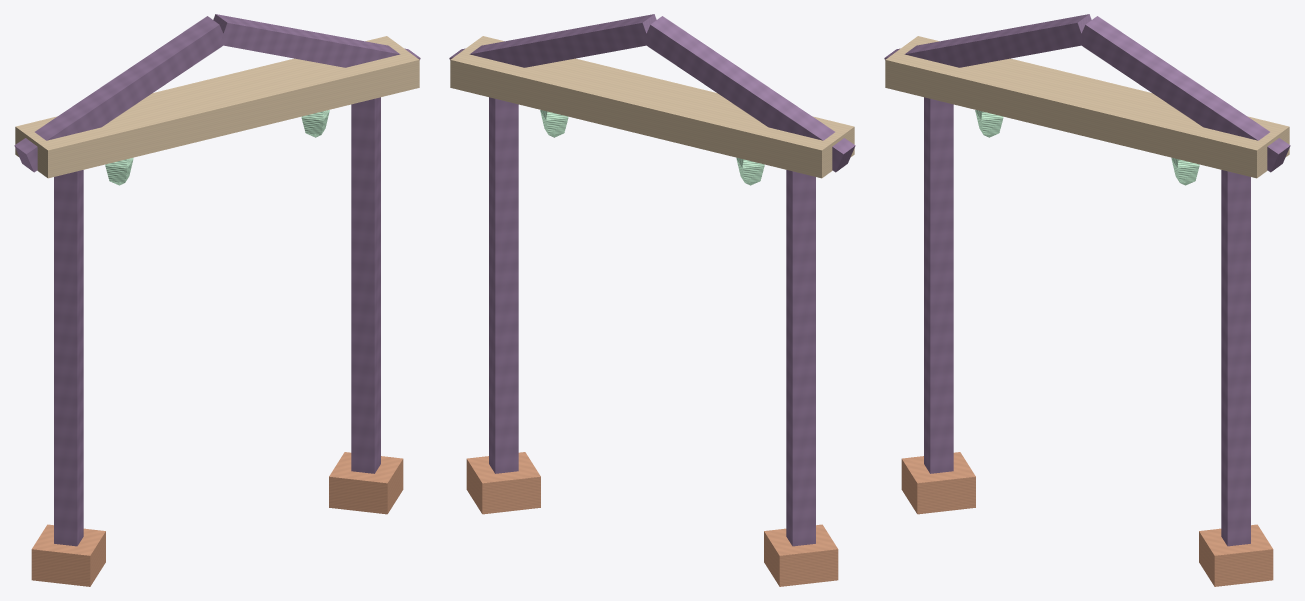
Rendered from atlas100-s081-a09.glb.
3 views of the same model, side by side, from view 1: azimuth 30°, elevation 25°; view 2: azimuth 150°, elevation 25°; view 3: azimuth 330°, elevation 25° (orthographic).
Parts seen in each view (by area): view 1: atlas100-s081-a09:part-004, atlas100-s081-a09:part-002, atlas100-s081-a09:part-000, atlas100-s081-a09:part-005, atlas100-s081-a09:part-006, atlas100-s081-a09:part-003, atlas100-s081-a09:part-001, atlas100-s081-a09:part-007, atlas100-s081-a09:part-008; view 2: atlas100-s081-a09:part-004, atlas100-s081-a09:part-002, atlas100-s081-a09:part-000, atlas100-s081-a09:part-005, atlas100-s081-a09:part-006, atlas100-s081-a09:part-003, atlas100-s081-a09:part-001, atlas100-s081-a09:part-007, atlas100-s081-a09:part-008; view 3: atlas100-s081-a09:part-004, atlas100-s081-a09:part-000, atlas100-s081-a09:part-002, atlas100-s081-a09:part-006, atlas100-s081-a09:part-005, atlas100-s081-a09:part-001, atlas100-s081-a09:part-003, atlas100-s081-a09:part-008, atlas100-s081-a09:part-007.
Boxes of the visible parts, bbox=[...] form: atlas100-s081-a09:part-004: bbox=[15, 36, 419, 178]; atlas100-s081-a09:part-002: bbox=[351, 97, 380, 473]; atlas100-s081-a09:part-000: bbox=[54, 170, 83, 546]; atlas100-s081-a09:part-005: bbox=[14, 16, 226, 172]; atlas100-s081-a09:part-006: bbox=[213, 14, 420, 67]; atlas100-s081-a09:part-003: bbox=[329, 452, 403, 514]; atlas100-s081-a09:part-001: bbox=[31, 524, 105, 586]; atlas100-s081-a09:part-007: bbox=[105, 158, 133, 185]; atlas100-s081-a09:part-008: bbox=[301, 110, 329, 137]; atlas100-s081-a09:part-004: bbox=[450, 36, 854, 178]; atlas100-s081-a09:part-002: bbox=[489, 97, 518, 473]; atlas100-s081-a09:part-000: bbox=[786, 170, 815, 546]; atlas100-s081-a09:part-005: bbox=[643, 16, 855, 172]; atlas100-s081-a09:part-006: bbox=[449, 14, 656, 67]; atlas100-s081-a09:part-003: bbox=[466, 452, 540, 514]; atlas100-s081-a09:part-001: bbox=[764, 524, 838, 586]; atlas100-s081-a09:part-007: bbox=[736, 158, 764, 185]; atlas100-s081-a09:part-008: bbox=[540, 110, 568, 137]; atlas100-s081-a09:part-004: bbox=[885, 36, 1289, 178]; atlas100-s081-a09:part-000: bbox=[924, 97, 953, 473]; atlas100-s081-a09:part-002: bbox=[1221, 170, 1250, 546]; atlas100-s081-a09:part-006: bbox=[1081, 16, 1290, 172]; atlas100-s081-a09:part-005: bbox=[884, 14, 1091, 67]; atlas100-s081-a09:part-001: bbox=[901, 452, 975, 514]; atlas100-s081-a09:part-003: bbox=[1199, 524, 1273, 586]; atlas100-s081-a09:part-008: bbox=[1171, 158, 1199, 185]; atlas100-s081-a09:part-007: bbox=[975, 110, 1003, 137].
Bounding box in the file's own units: 2.65 × 3.31 × 0.5.
4 materials, 4 textured.
